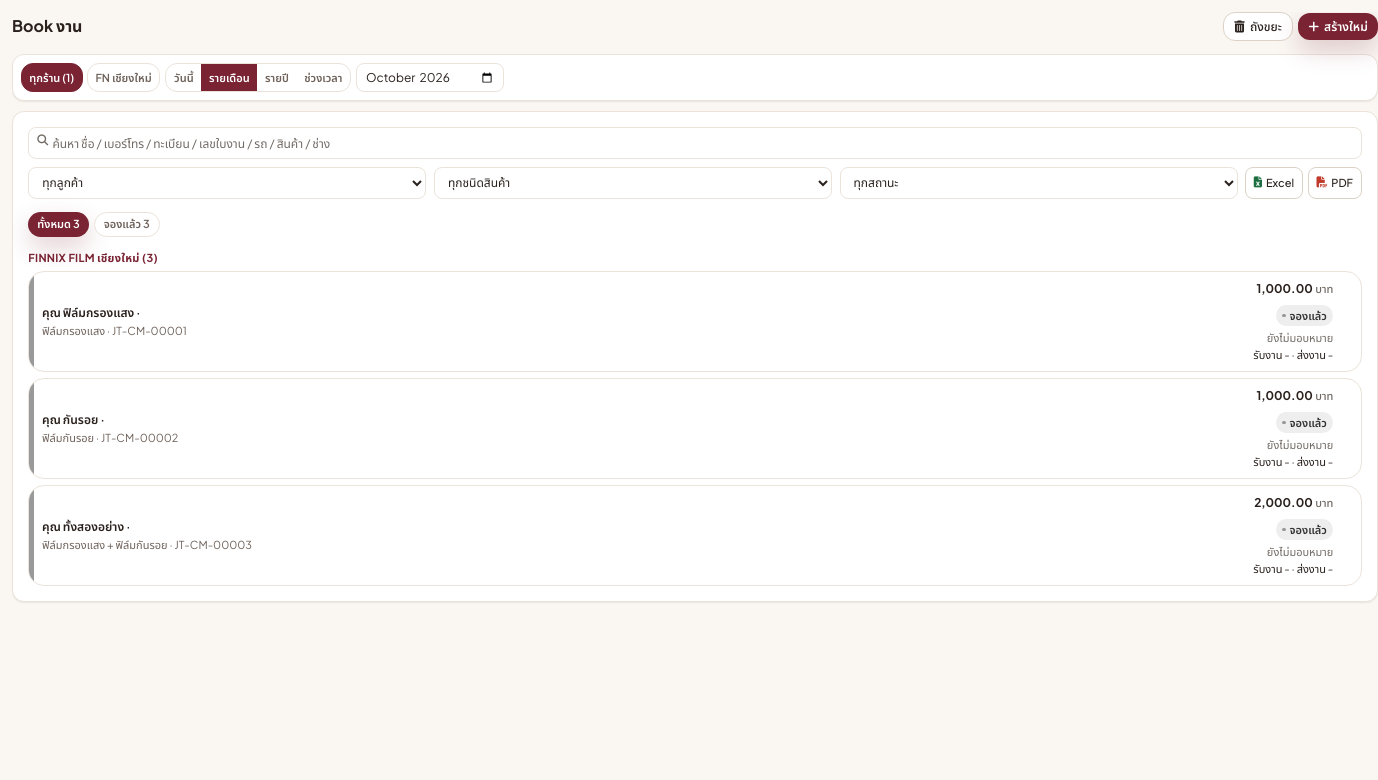
Test: TicketList — กรองตามชนิดสินค้า › counts the status chips over the filtered jobs
Select "ฟิล์มกรองแสง" in the dropdown named "กรองตามชนิดสินค้า": (633, 183) [434,167,832,199]
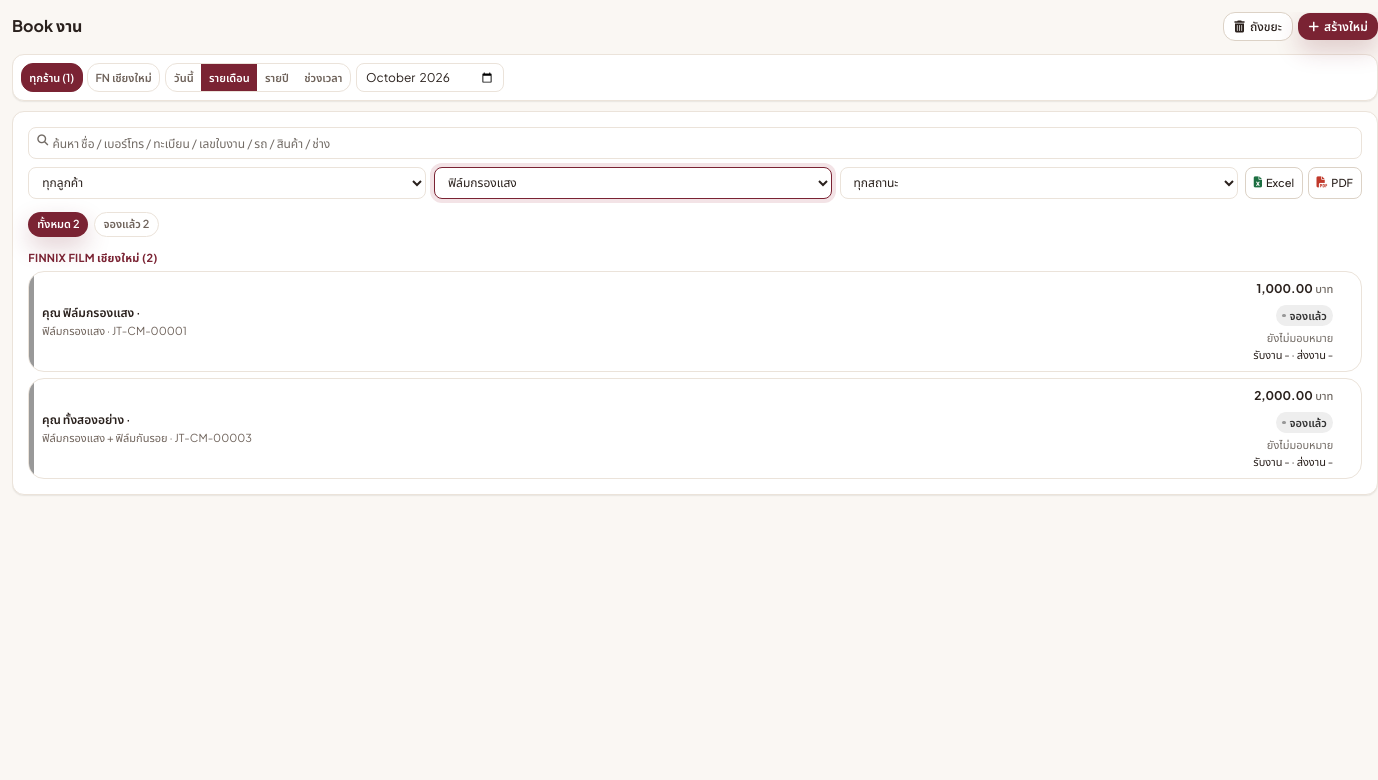
Now the button "ทั้งหมด 2" is shown, box [28,212,88,237]
